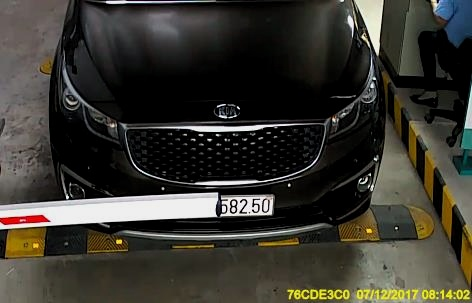plate: (194, 191, 277, 221)
